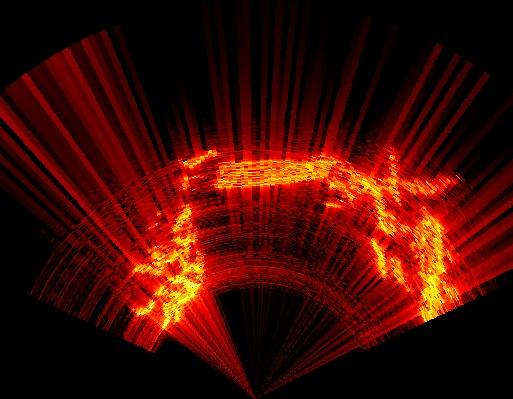shipwreck: (215, 154, 457, 320), (133, 205, 203, 328)
